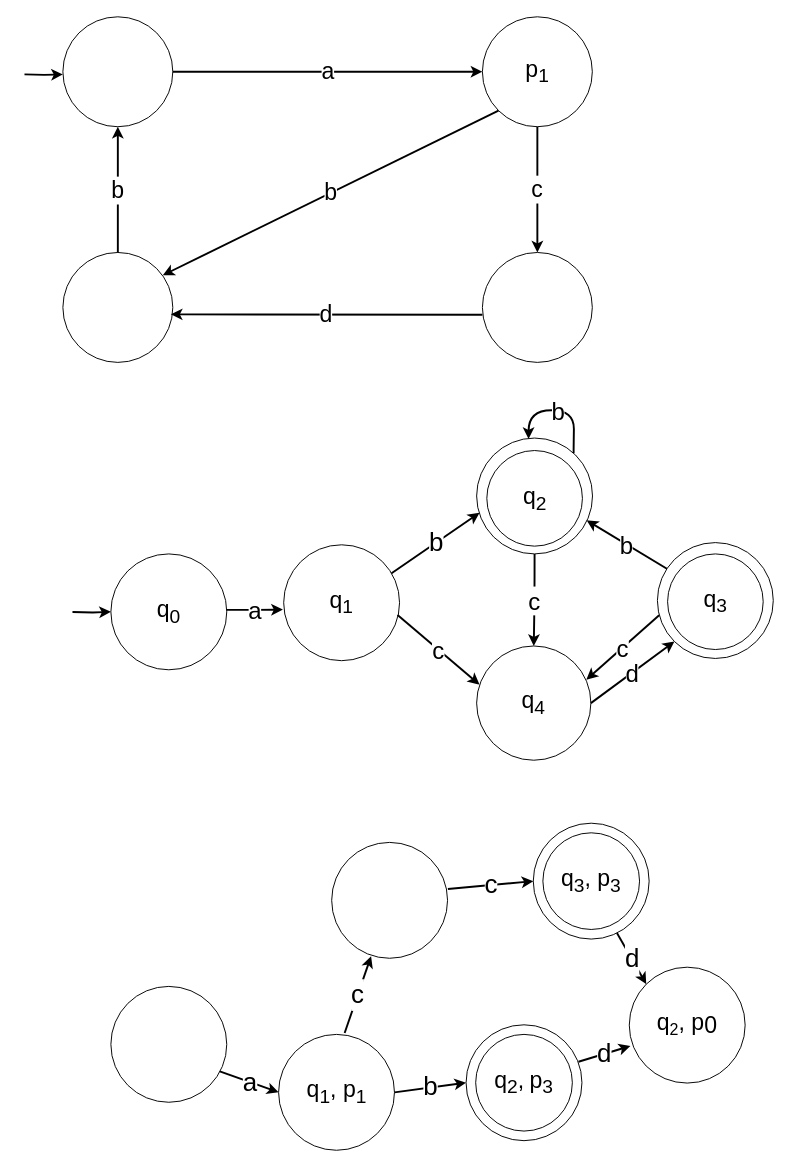
This 790x1167 diagram has some shape labels left out. The shapes that lost their labels are listed below. From the top down, each one's centre as x and y in pixels, then its label:
At [117,71]: "p 0".
At [117,307]: "p 3".
At [536,307]: "p 2".
At [389,899]: "q 4 , p 2".
At [168,1043]: "q 0 , p 0".
